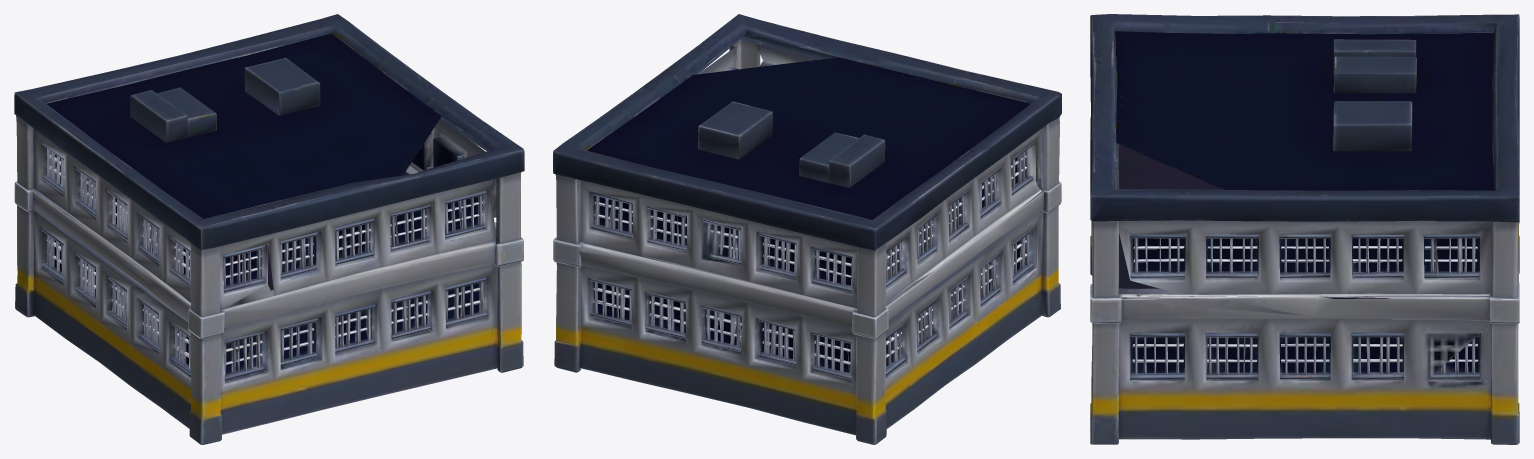
The model's file is cellblock.glb.
3 renders of one model, left to right at view 1: azimuth 30°, elevation 25°; view 2: azimuth 150°, elevation 25°; view 3: azimuth 270°, elevation 25°, orthographic. The views are drawn at different scales.
Visible parts, largest first — view 1: meshy-cellblock; view 2: meshy-cellblock; view 3: meshy-cellblock.
Boxes of the visible parts, box(x1,y1,x2,y2) form: meshy-cellblock: box(14, 14, 524, 444); meshy-cellblock: box(553, 14, 1061, 444); meshy-cellblock: box(1090, 14, 1519, 444).
Bounding box in the file's own units: 11.63 × 8 × 11.63.
1 material, 1 textured.
